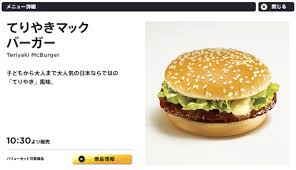hamburger: (156, 47, 283, 139)
